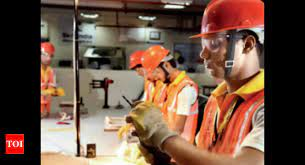arm: (130, 85, 199, 151)
face: (201, 39, 222, 72), (146, 58, 170, 83)
glove: (129, 100, 169, 148)
helmet: (138, 42, 171, 72), (138, 42, 171, 71), (38, 42, 59, 55)
human: (152, 3, 265, 163)
nogoggle: (201, 39, 227, 53)
vest: (169, 86, 264, 163)
